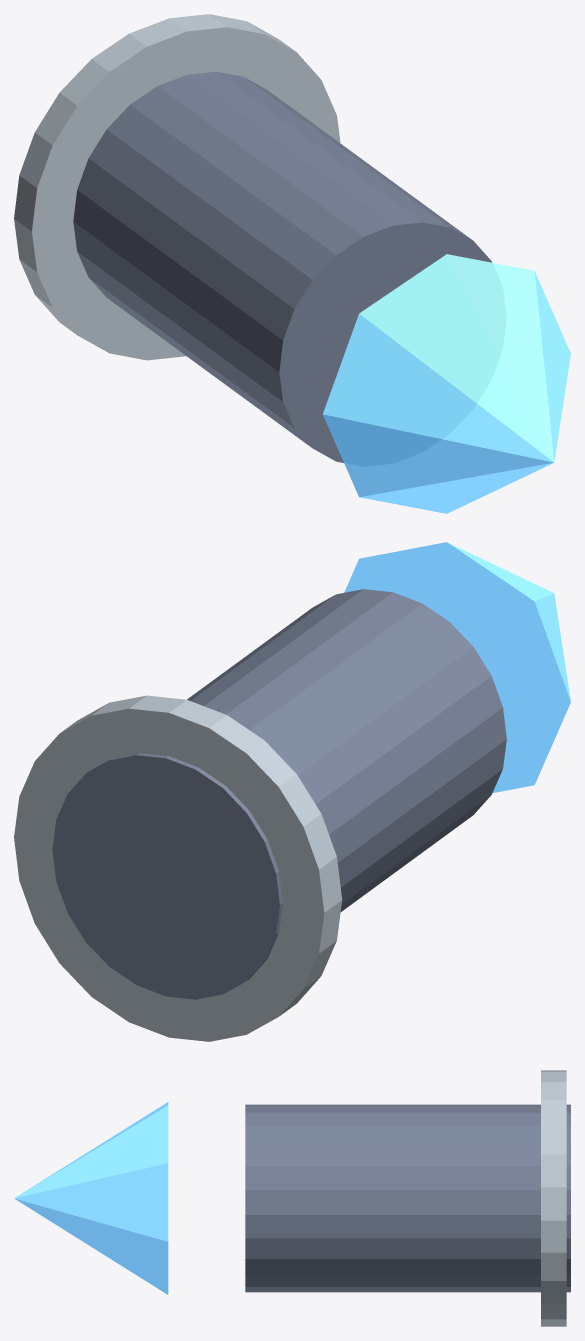
Rendered from 24_Ancient_Sky_Temple_Pillar.glb.
The picture shows the model from 3 angles, top to bottom: view 1: azimuth 30°, elevation 25°; view 2: azimuth 150°, elevation 25°; view 3: azimuth 270°, elevation 25°; orthographic projection. The views are drawn at different scales.
Visible parts, largest first — view 1: 24_Ancient_Sky_Temple_Pillar_00, 24_Ancient_Sky_Temple_Pillar_02, 24_Ancient_Sky_Temple_Pillar_01; view 2: 24_Ancient_Sky_Temple_Pillar_00, 24_Ancient_Sky_Temple_Pillar_01, 24_Ancient_Sky_Temple_Pillar_02; view 3: 24_Ancient_Sky_Temple_Pillar_00, 24_Ancient_Sky_Temple_Pillar_02, 24_Ancient_Sky_Temple_Pillar_01.
Part boxes in pixels (box(x1,y1,x2,y2)): 24_Ancient_Sky_Temple_Pillar_00: box(73, 71, 491, 462); 24_Ancient_Sky_Temple_Pillar_02: box(322, 254, 570, 513); 24_Ancient_Sky_Temple_Pillar_01: box(14, 14, 340, 360); 24_Ancient_Sky_Temple_Pillar_00: box(52, 589, 506, 999); 24_Ancient_Sky_Temple_Pillar_01: box(14, 695, 342, 1041); 24_Ancient_Sky_Temple_Pillar_02: box(344, 542, 570, 793); 24_Ancient_Sky_Temple_Pillar_00: box(245, 1104, 570, 1292); 24_Ancient_Sky_Temple_Pillar_02: box(14, 1102, 168, 1294); 24_Ancient_Sky_Temple_Pillar_01: box(541, 1070, 566, 1326).
Size of the model in its own units: 3 by 3 by 6.5.
